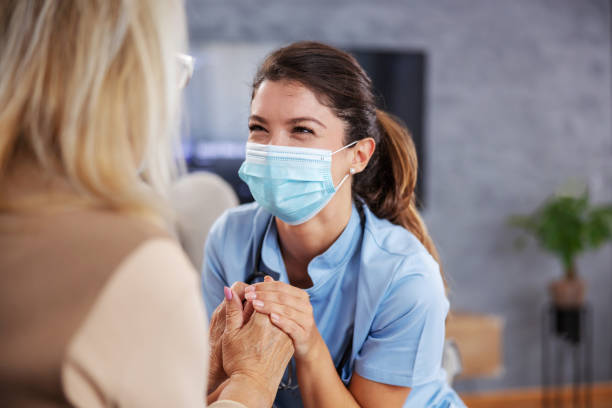with mask: (240, 52, 357, 225)
